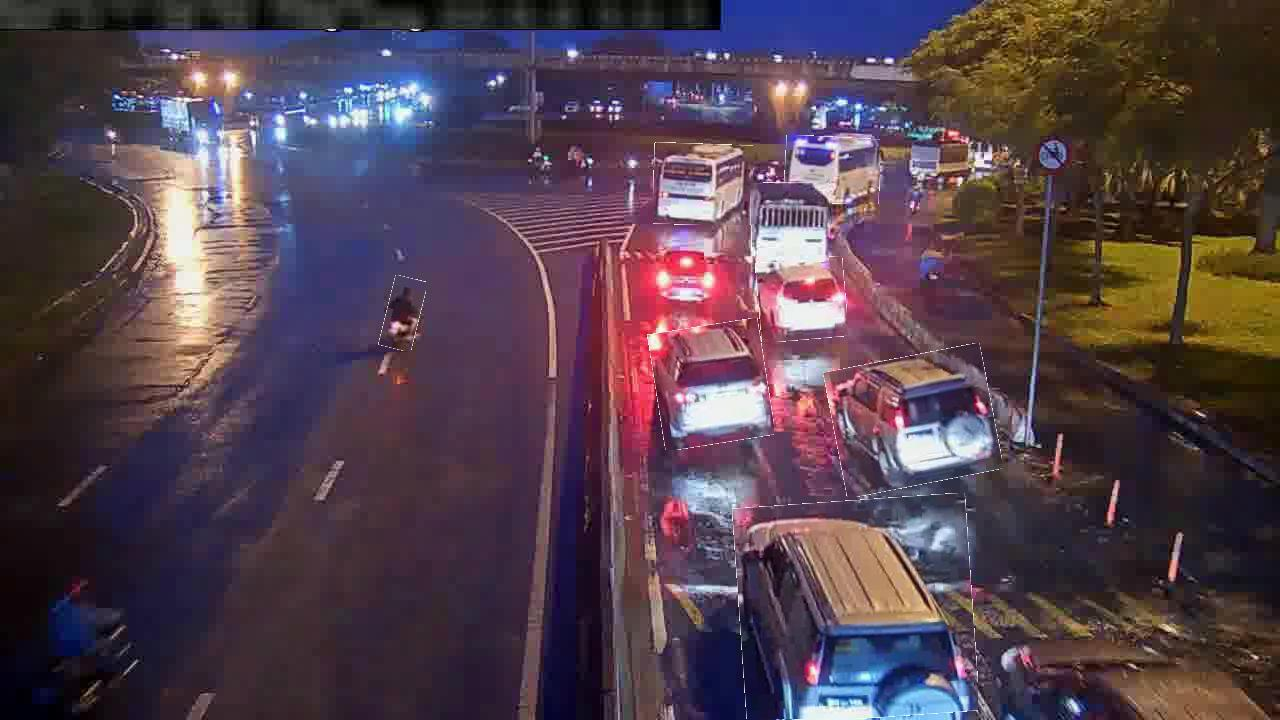14: (654, 143, 754, 226), (784, 136, 881, 204)
8: (752, 183, 830, 263)
container: (735, 497, 976, 719), (829, 350, 998, 492), (652, 322, 771, 448), (757, 258, 847, 342), (654, 235, 714, 309)
motorbike: (382, 277, 423, 351)
